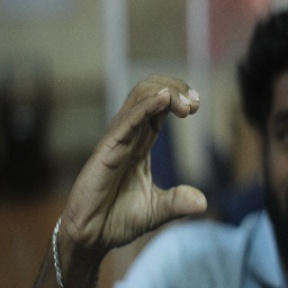C: (75, 69, 223, 232)
